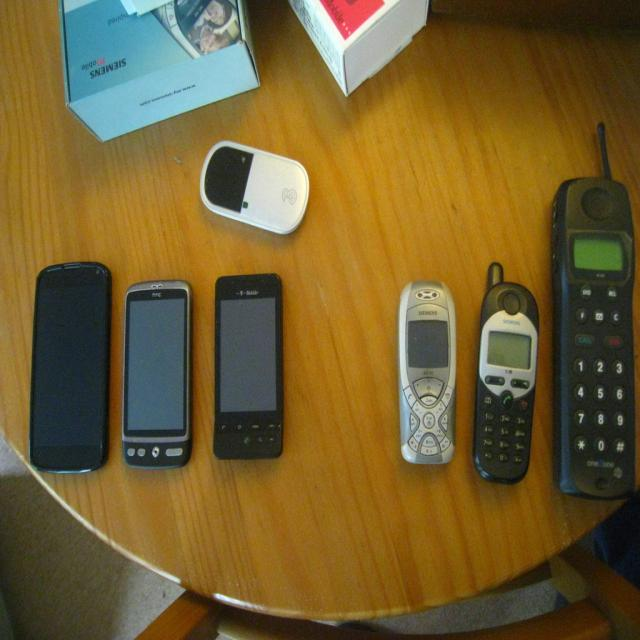Mobile-phone: (552, 120, 636, 503), (34, 262, 106, 468), (211, 273, 285, 461), (122, 277, 192, 469), (478, 301, 546, 489), (399, 276, 457, 465), (196, 141, 306, 236)
